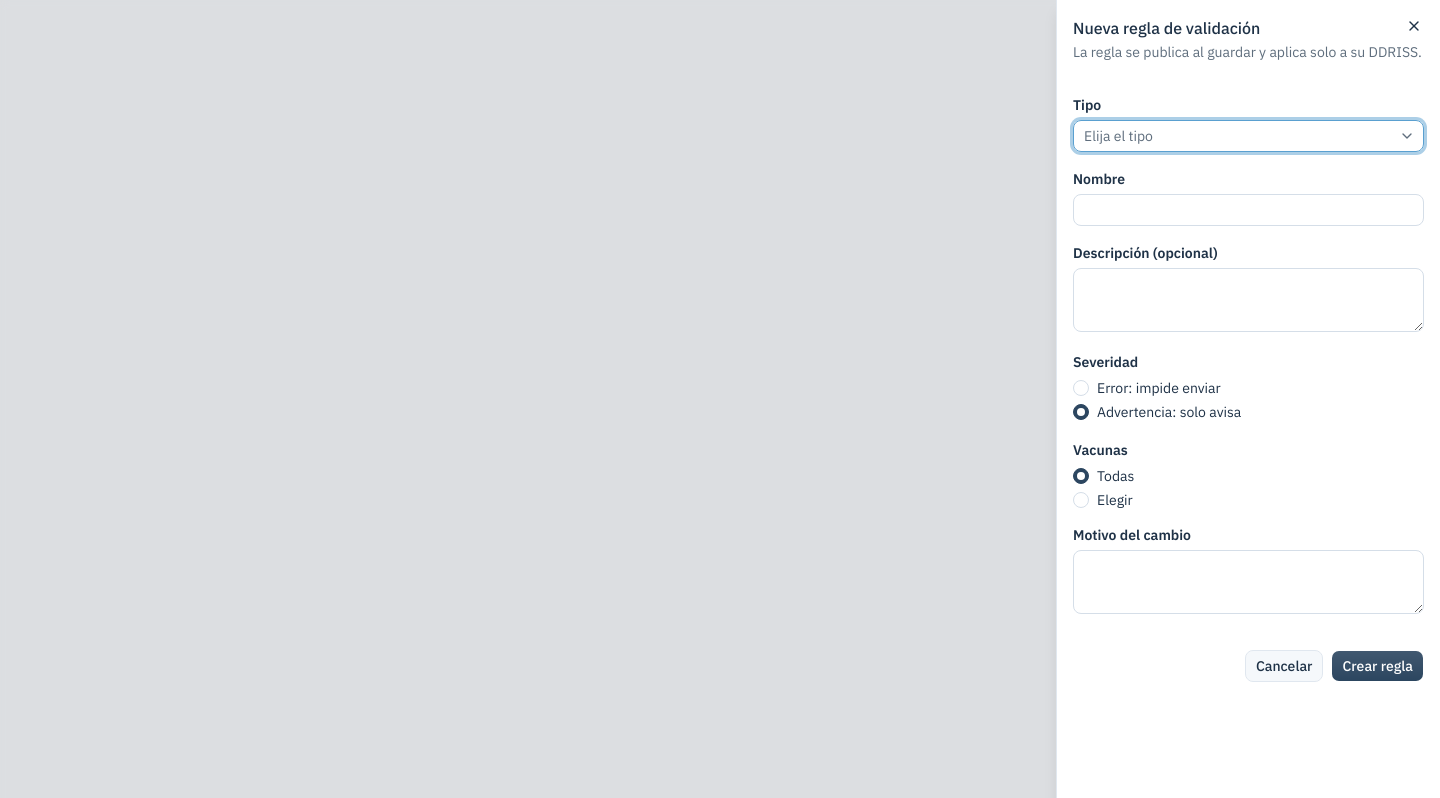
Scenario: sin tipo y con «Elegir» sin vacunas, pide las dos cosas
Click the radio button named "Elegir" next to "Elegir": (1081, 500) [1073,492,1089,508]
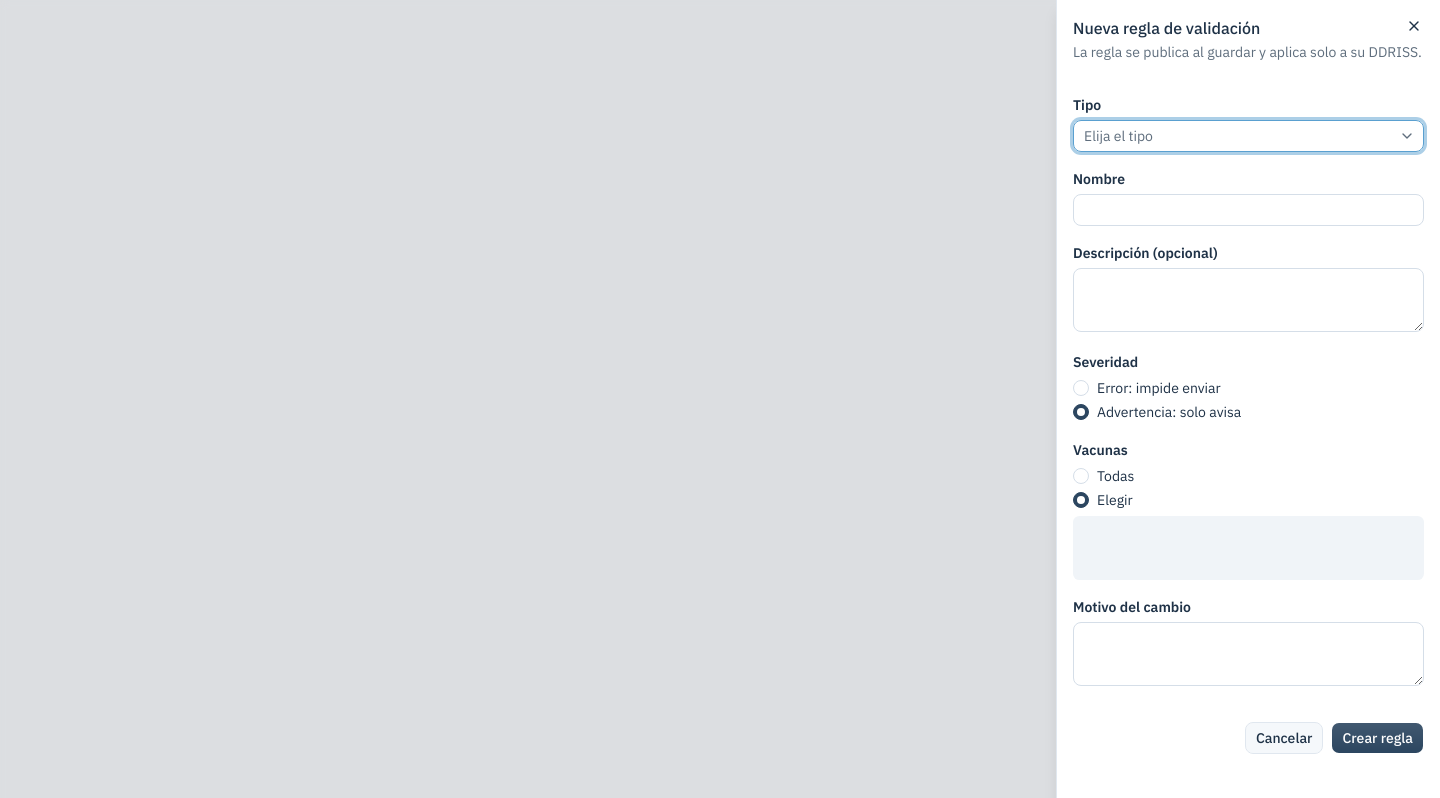
Click the button "Crear regla": (1378, 738) [1331,722,1424,754]
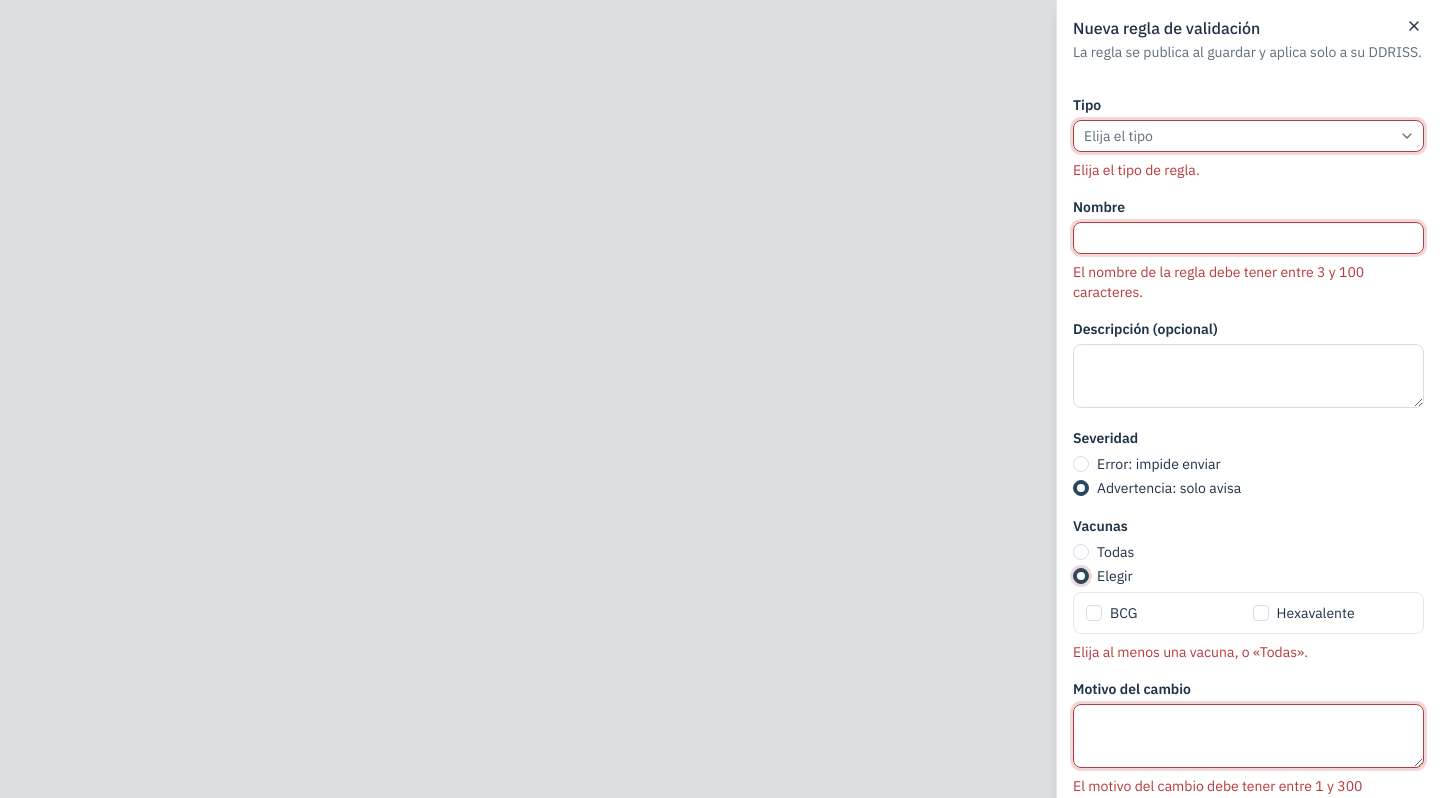
expect the text "Elija el tipo de regla." is shown: met, box [1073,161,1200,179]
expect the text "Elija al menos una vacuna, o «Todas»." is shown: met, box [1073,643,1308,661]
